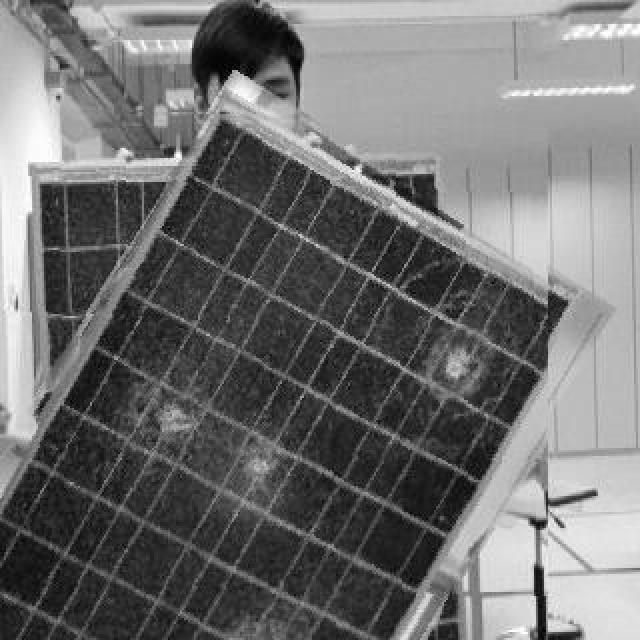Physical-damage: (415, 325, 499, 413), (139, 389, 215, 458), (218, 439, 296, 493), (215, 613, 335, 637)
